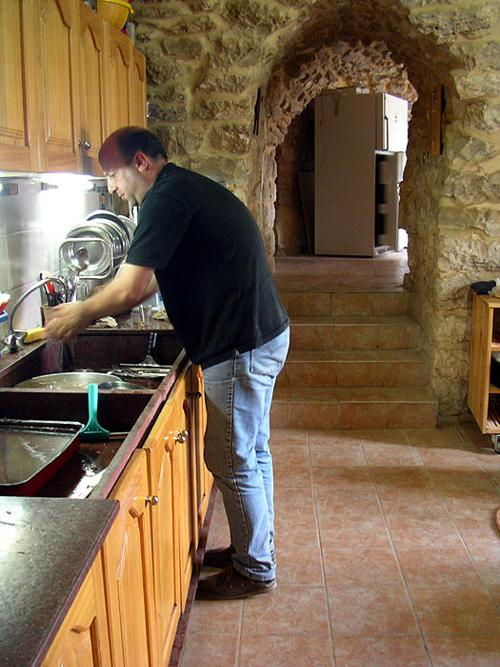person: (46, 124, 292, 596)
